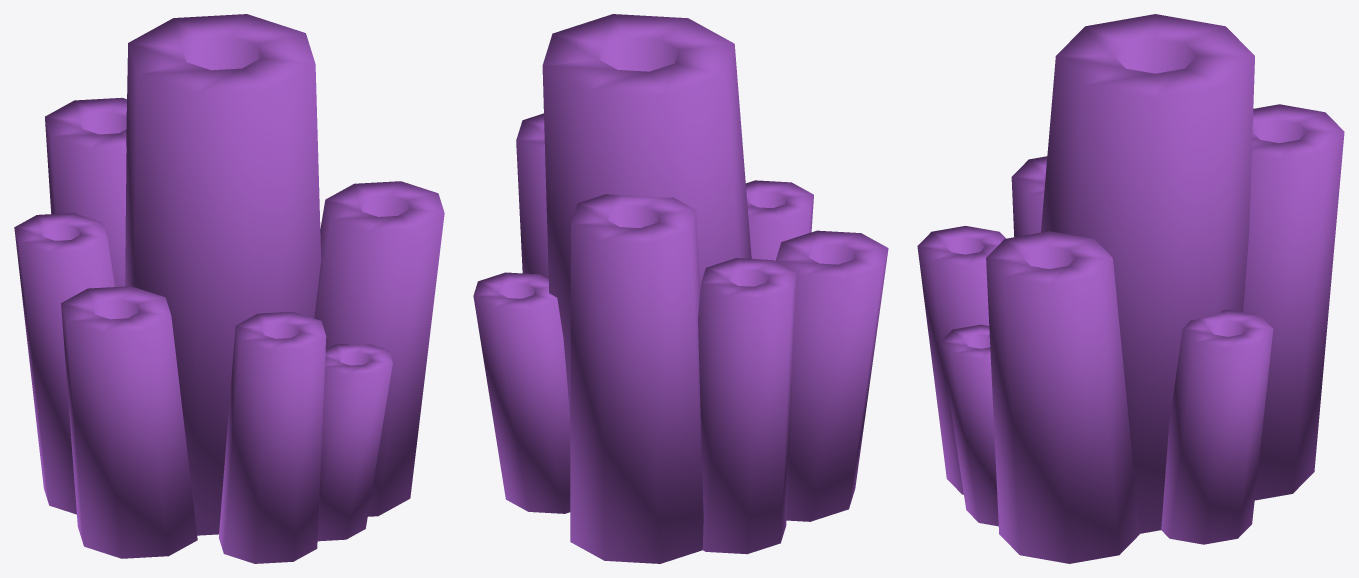
Rendered from Large3.fbx.
3 renders of one model, left to right at view 1: azimuth 30°, elevation 25°; view 2: azimuth 150°, elevation 25°; view 3: azimuth 270°, elevation 25°, orthographic. The views are drawn at different scales.
Parts seen in each view (by area): view 1: Large3; view 2: Large3; view 3: Large3.
Boxes of the visible parts, x1,y1,x2,y2 form: Large3: (14, 14, 444, 563); Large3: (473, 14, 888, 563); Large3: (917, 14, 1344, 563).
Size of the model in its own units: 6.39 by 7.2 by 6.37.
